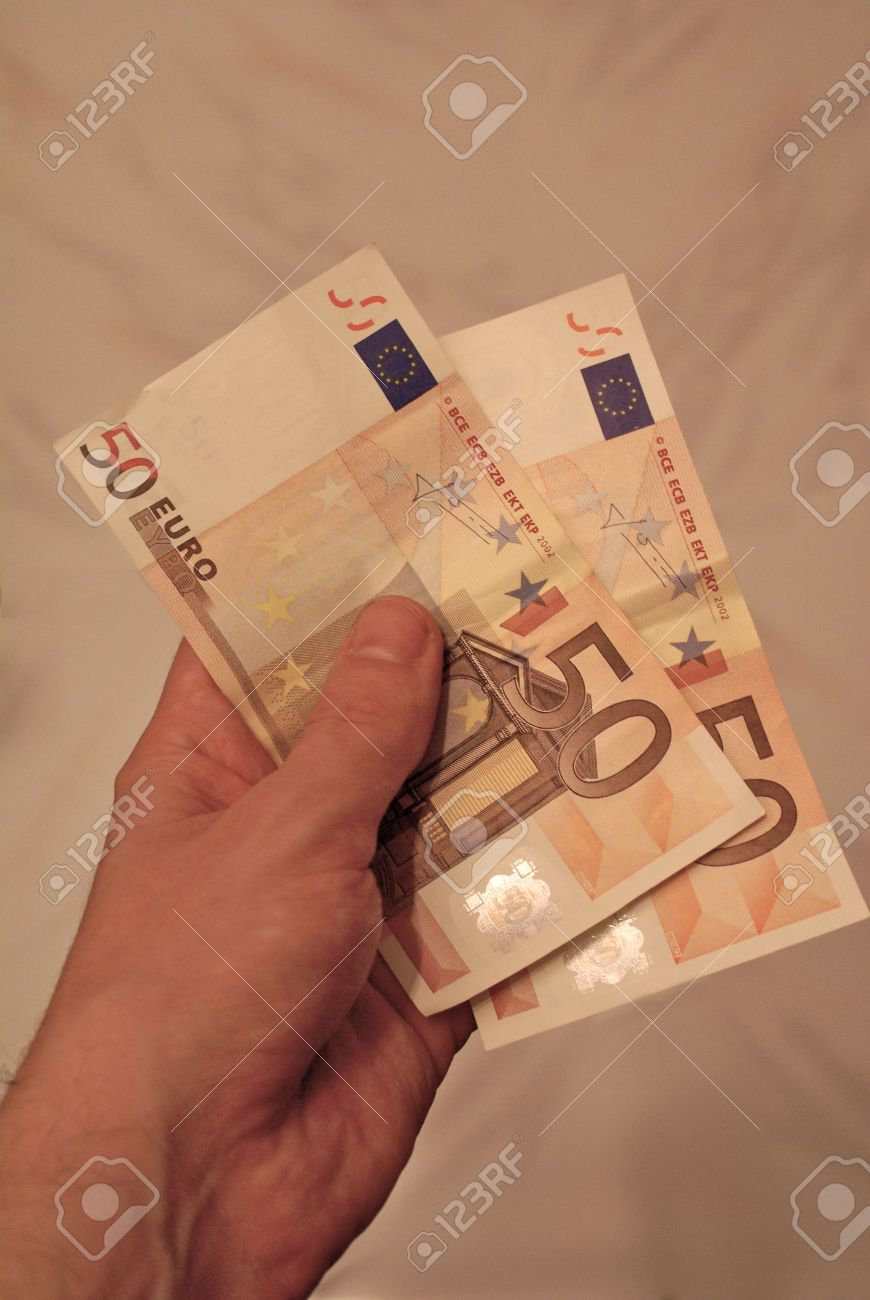billete: (49, 238, 770, 1016), (428, 269, 870, 1052)
